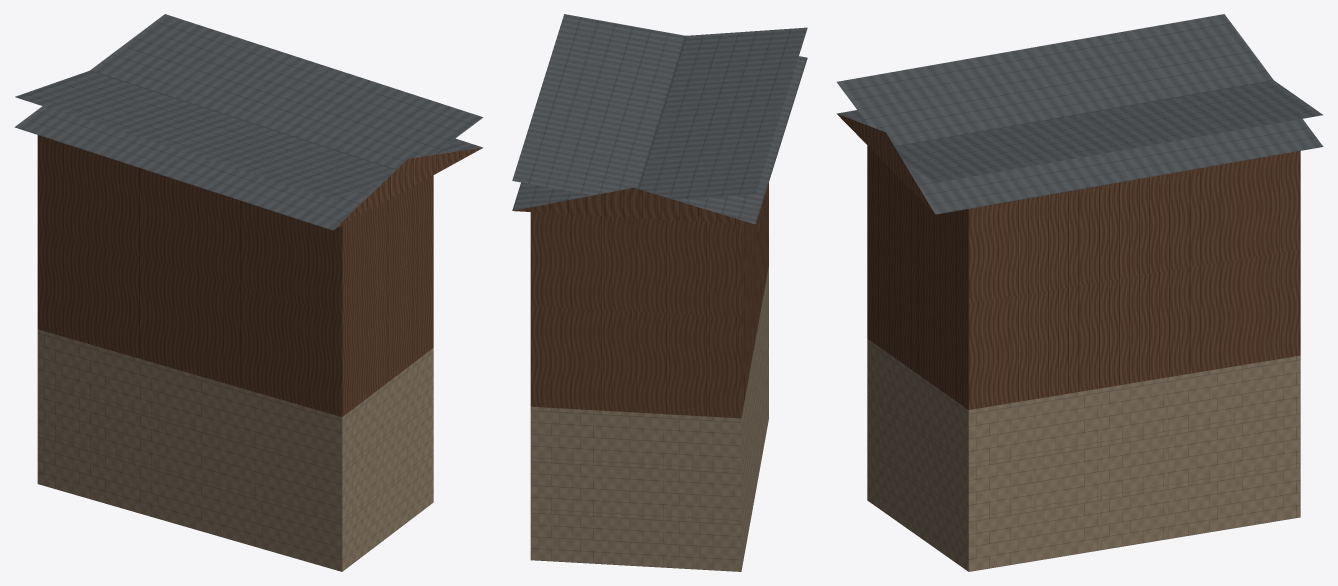
Rendered from bld_c14_15_479.gltf.
3 views of the same model, side by side, from view 1: azimuth 30°, elevation 25°; view 2: azimuth 150°, elevation 25°; view 3: azimuth 270°, elevation 25° (orthographic). The views are drawn at different scales.
Visible parts, largest first — view 1: bld_c14_15_479; view 2: bld_c14_15_479; view 3: bld_c14_15_479.
Part boxes in pixels (box(x1,y1,x2,y2)): bld_c14_15_479: box(14, 14, 482, 571); bld_c14_15_479: box(512, 14, 807, 571); bld_c14_15_479: box(837, 14, 1323, 571).
Size of the model in its own units: 11.42 by 12.8 by 13.91.
Materials: 4 (4 with a texture image).
